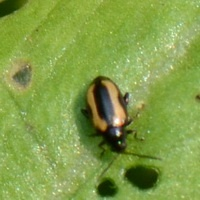insect: (82, 76, 131, 151)
